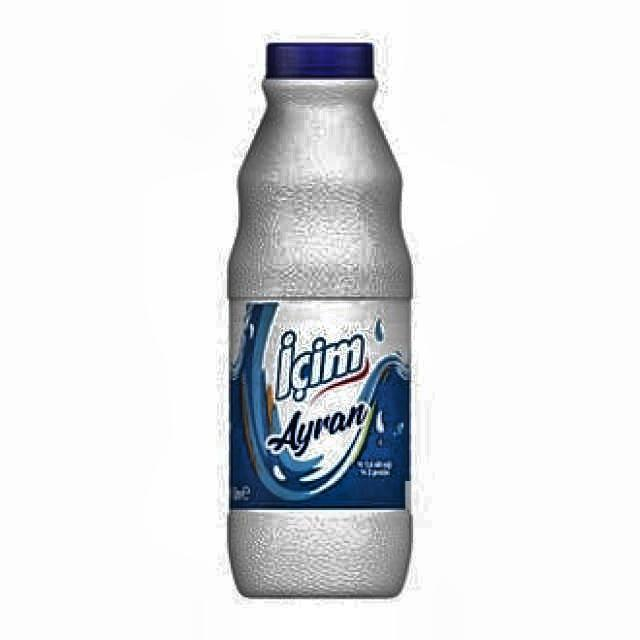plastic: (226, 42, 414, 601)
